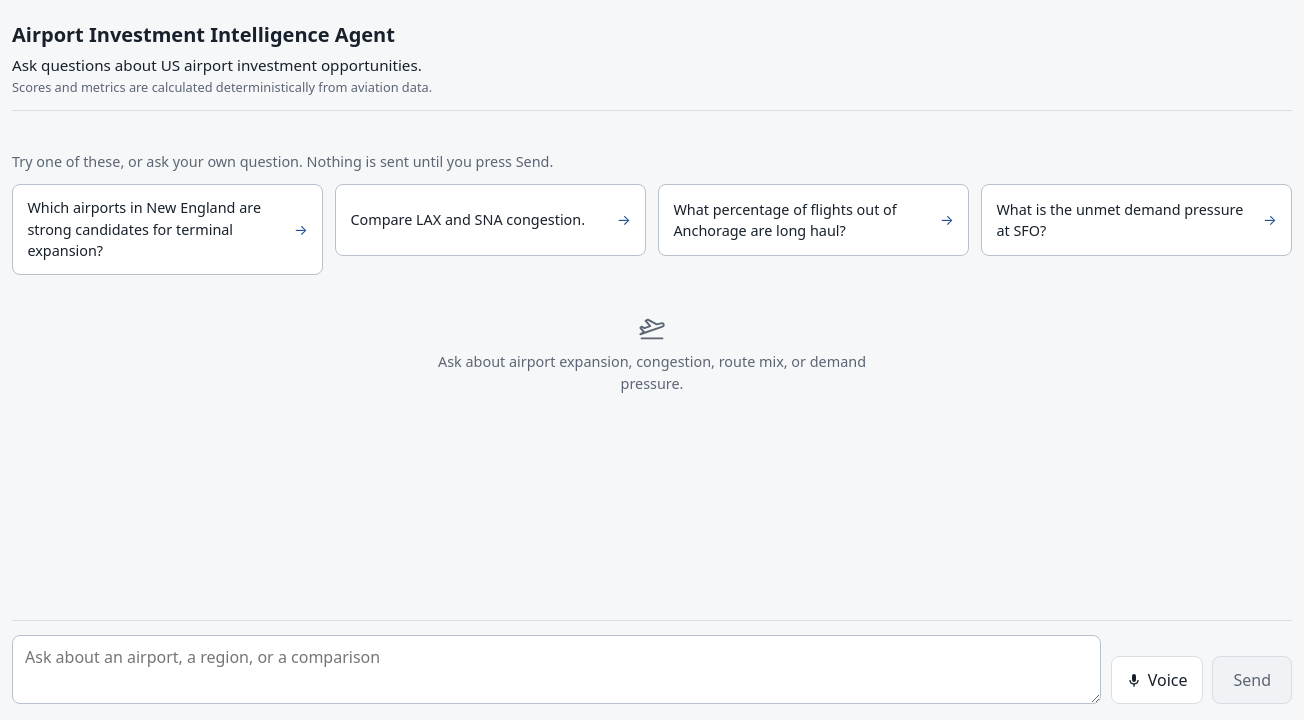
Test: voice input › in a supported browser › shows a friendly message on a recognition error without touching the text or text chat
The image size is (1304, 720).
Type "keep me" into the text box named "Your question" at (557, 669), box [12, 635, 1101, 704]
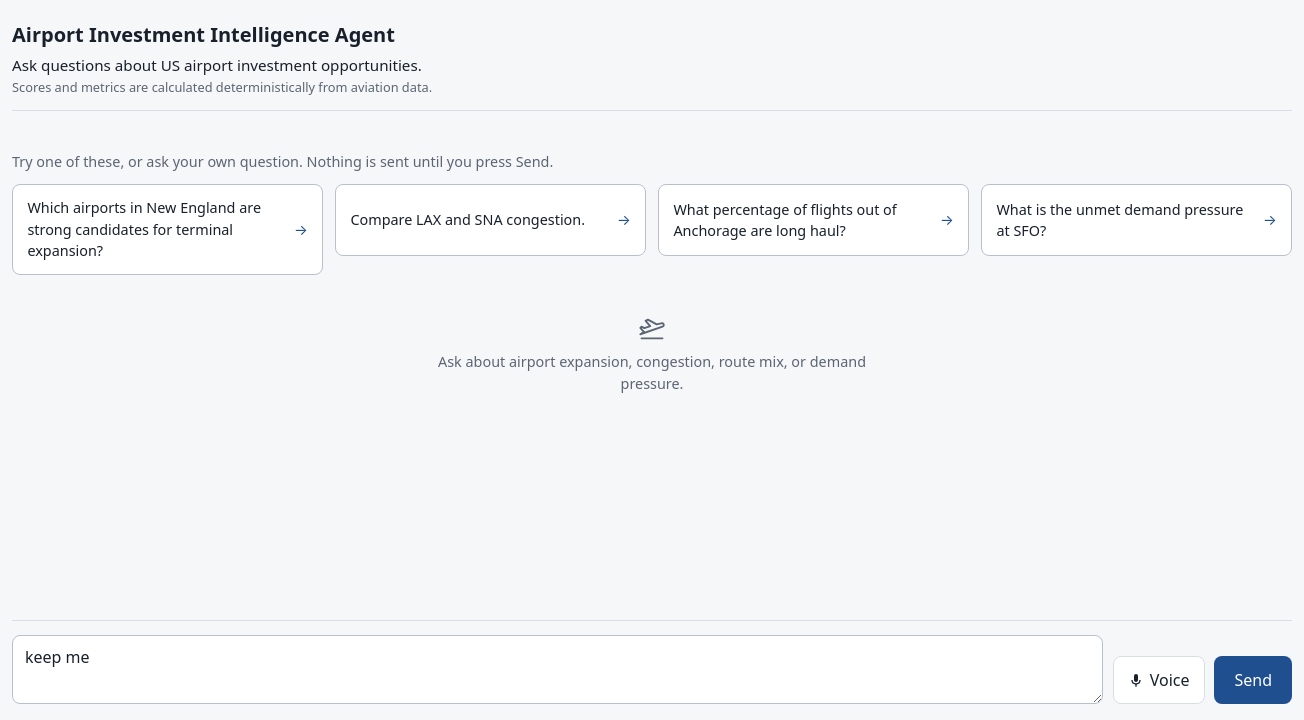
Click the button with aria-label "voice input" at (1159, 680), box [1113, 656, 1205, 704]
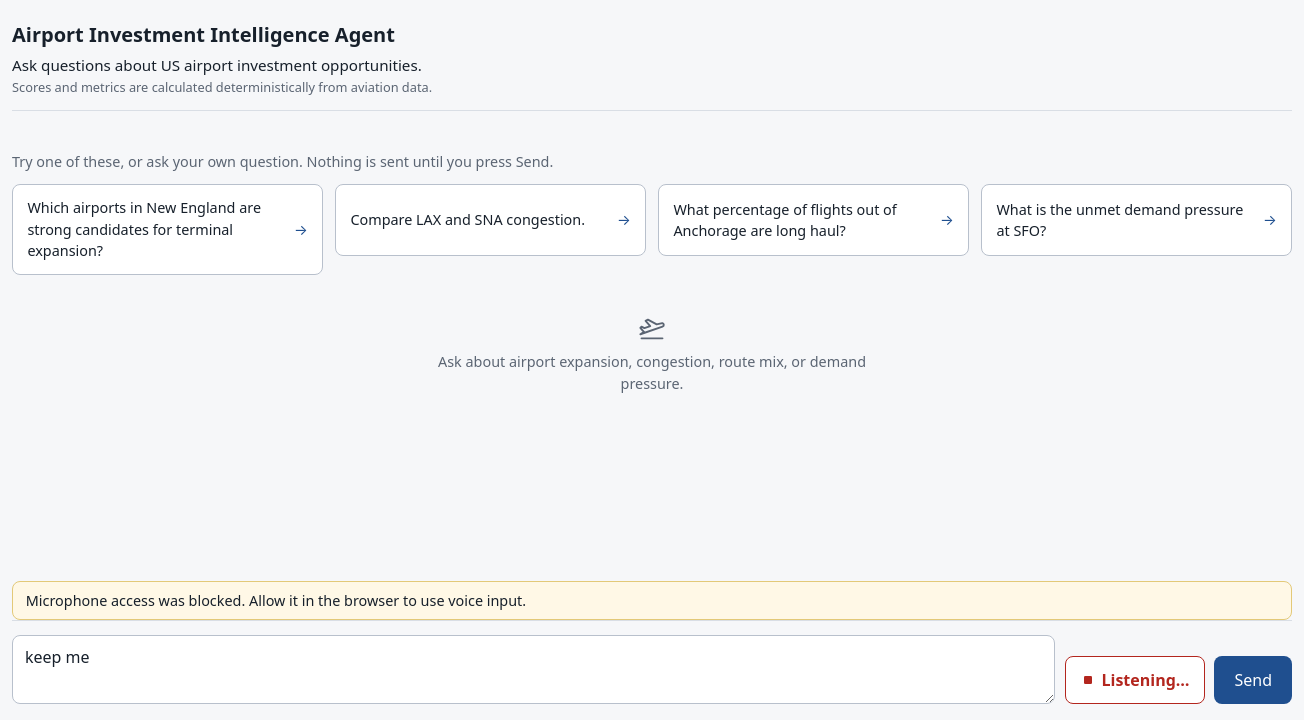
Expected: the text "Microphone access was blocked. Allow it in the browser to use voice input." is shown, [12, 581, 1292, 620]
Click the button "Send" at (1253, 680), box [1214, 656, 1292, 704]
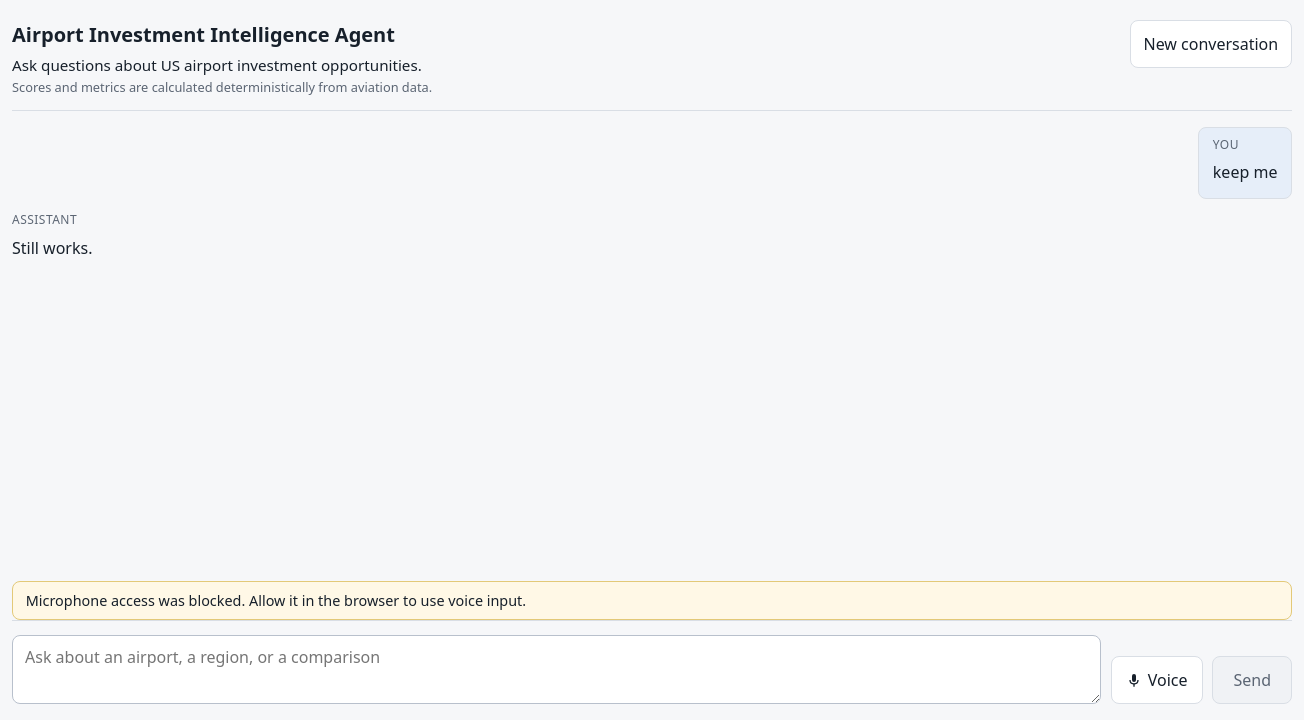
Expected: the text "Still works." is shown, [12, 237, 92, 259]
